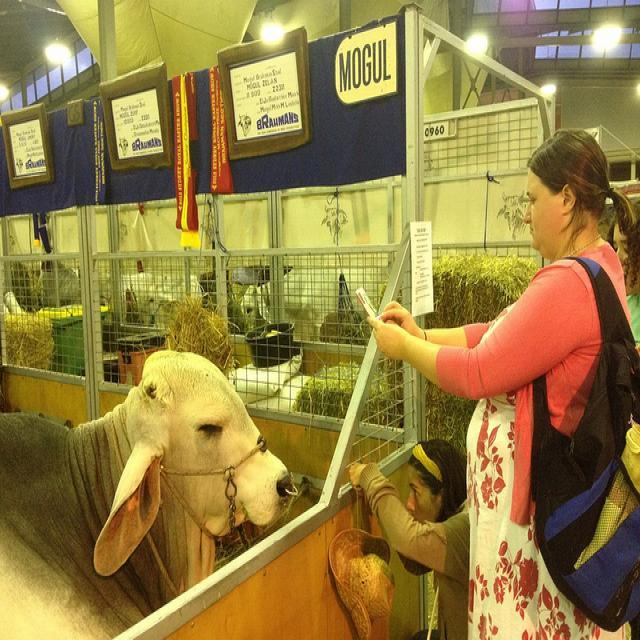cow: (0, 340, 300, 637), (255, 261, 334, 324)
